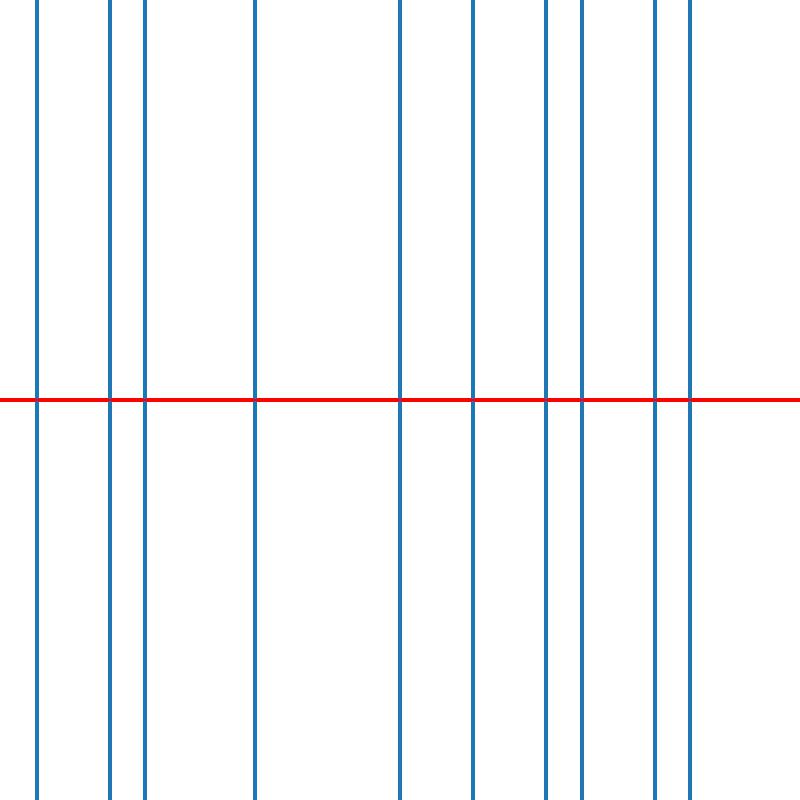root: (650, 396, 658, 404), (141, 396, 149, 404), (250, 396, 258, 404), (32, 396, 40, 404), (541, 396, 549, 404), (105, 396, 112, 404), (687, 396, 694, 404), (578, 396, 585, 404), (396, 396, 403, 404), (469, 396, 476, 404)
